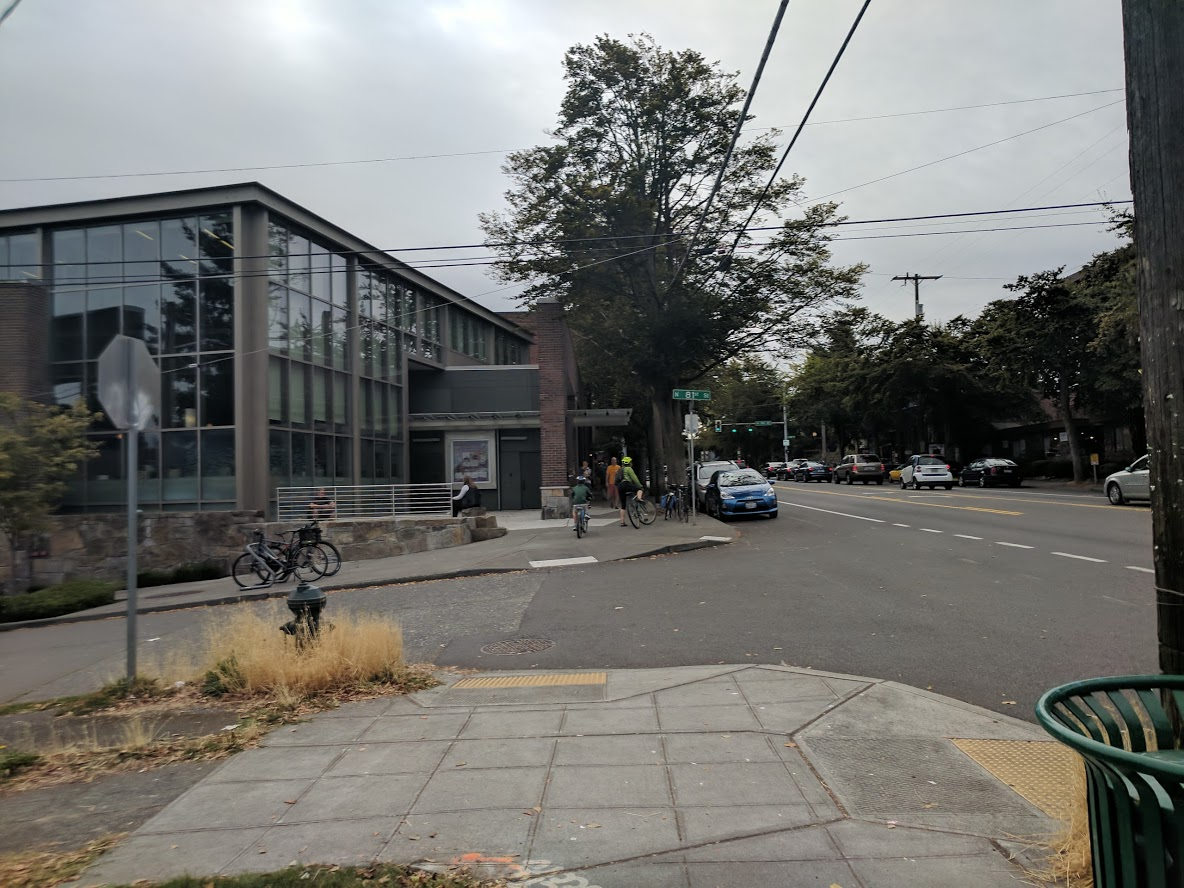tree: (474, 29, 871, 507)
